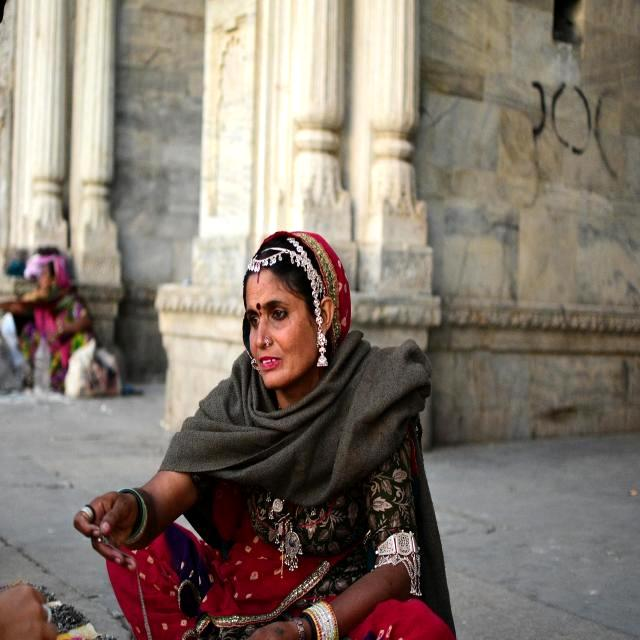no_hard_hat: (254, 231, 350, 344)
person: (74, 232, 454, 639)
